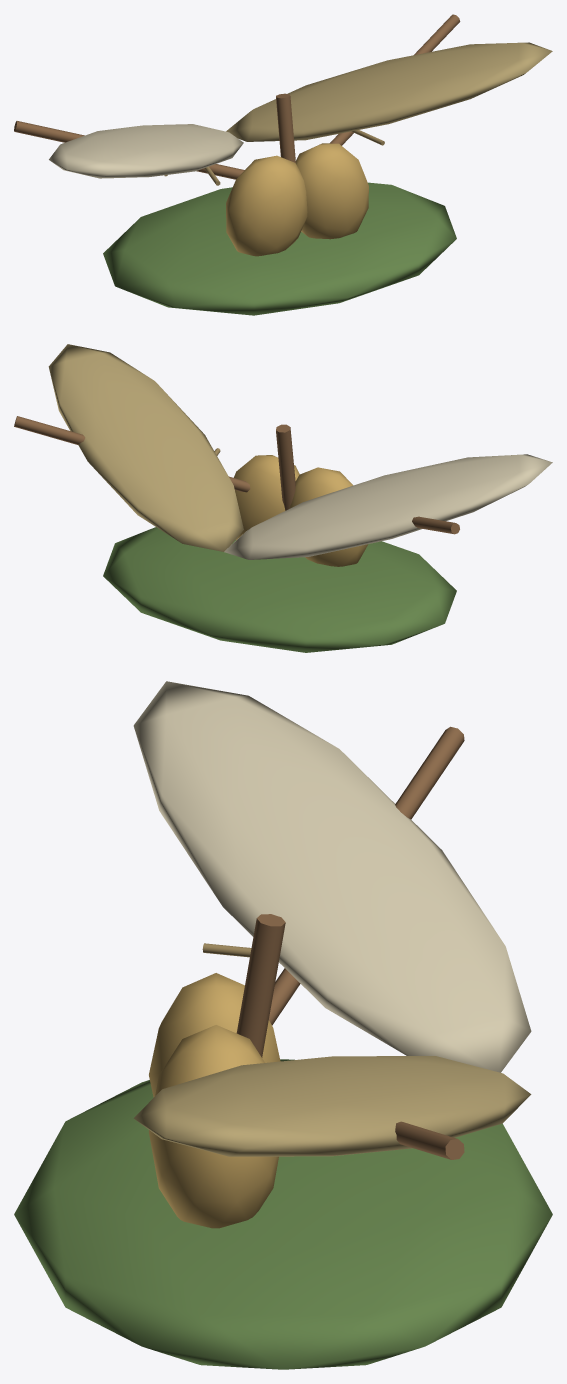
Rendered from discovery-seedwing.glb.
3 views of the same model, one above another, from view 1: azimuth 30°, elevation 25°; view 2: azimuth 150°, elevation 25°; view 3: azimuth 270°, elevation 25° (orthographic). The views are drawn at different scales.
Parts seen in each view (by area): view 1: discovery-seedwing-visual; view 2: discovery-seedwing-visual; view 3: discovery-seedwing-visual.
Part boxes in pixels (x1=…): discovery-seedwing-visual: x1=14, y1=14, x2=552, y2=315; discovery-seedwing-visual: x1=14, y1=344, x2=552, y2=652; discovery-seedwing-visual: x1=14, y1=681, x2=552, y2=1369.
Size of the model in its own units: 0.8824 by 0.3196 by 0.44.
